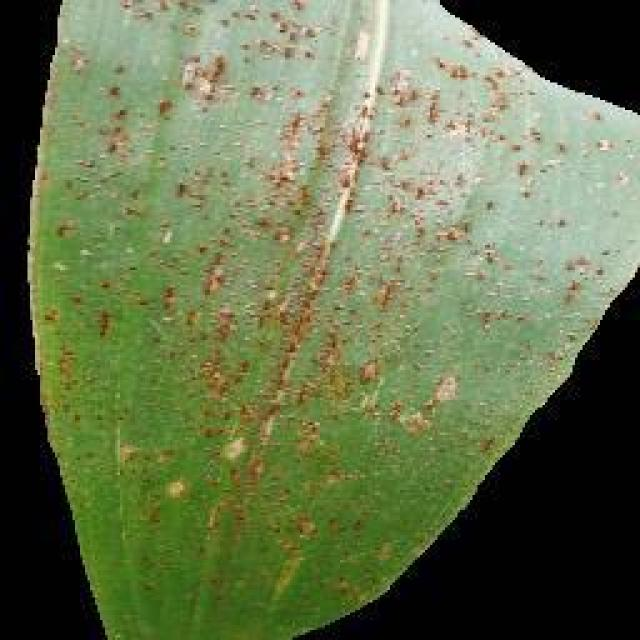Corn Common Rust: (37, 53, 568, 532)
